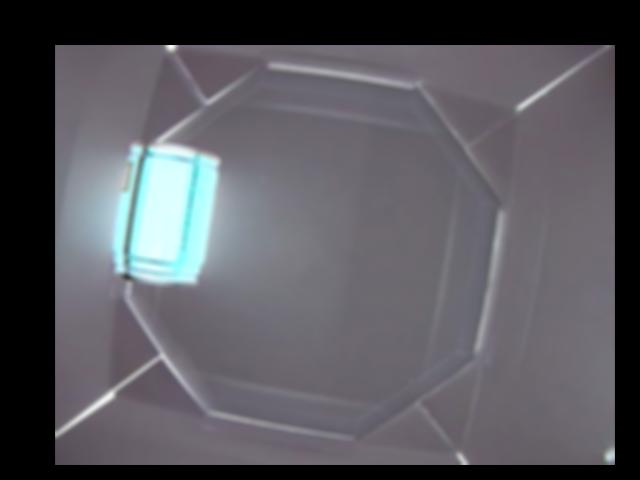Bottle: (113, 143, 220, 289)
